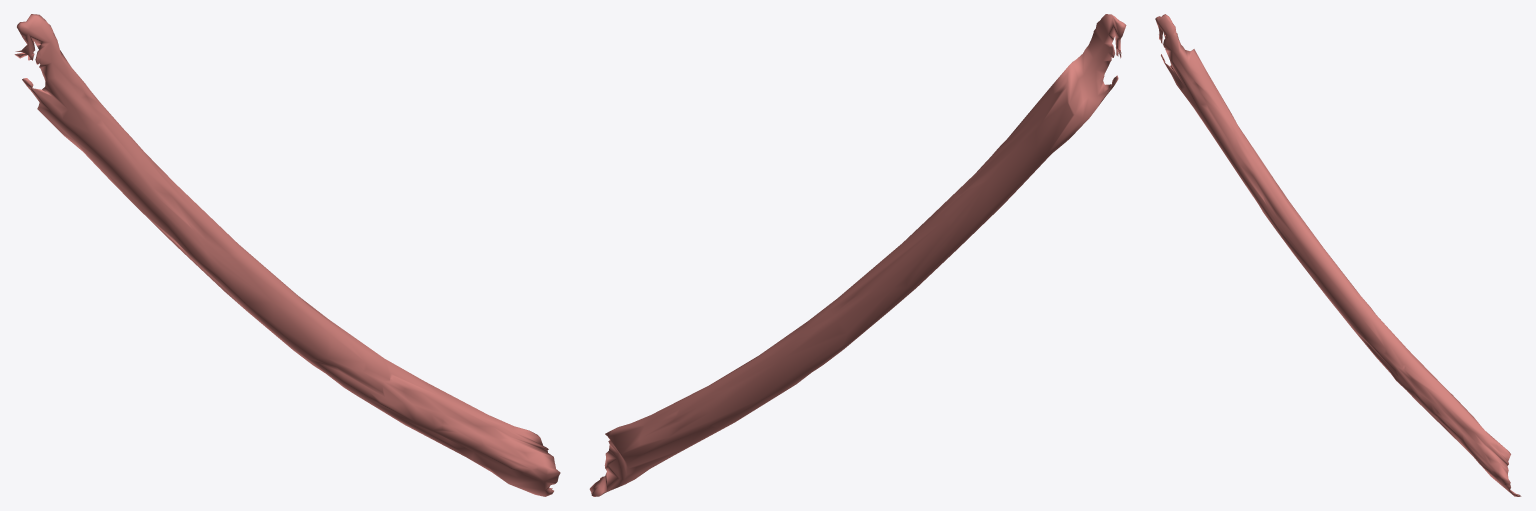
3 renders of one model, left to right at view 1: azimuth 30°, elevation 25°; view 2: azimuth 150°, elevation 25°; view 3: azimuth 330°, elevation 25°, orthographic. The views are drawn at different scales.
Parts seen in each view (by area): view 1: ZA_5b24187025609de0; view 2: ZA_5b24187025609de0; view 3: ZA_5b24187025609de0.
Boxes of the visible parts, <box> form: ZA_5b24187025609de0: <box>14,14,560,496</box>; ZA_5b24187025609de0: <box>589,14,1126,496</box>; ZA_5b24187025609de0: <box>1155,14,1521,496</box>.
Size of the model in its own units: 0.1045 by 0.1132 by 0.00928.
